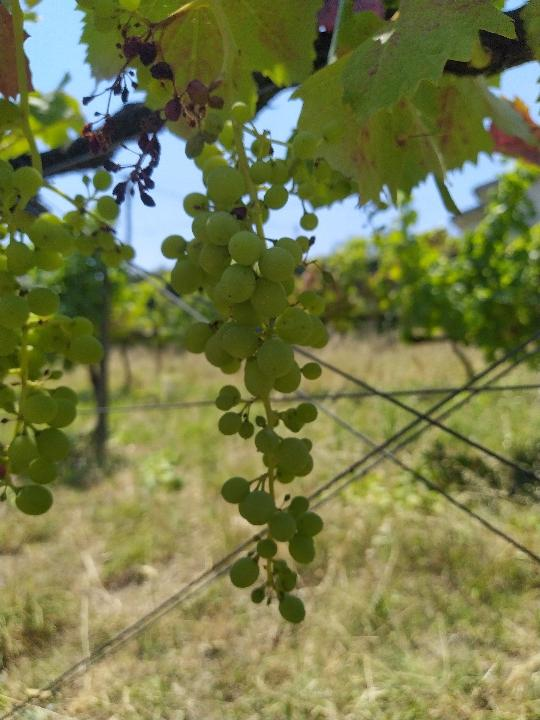grape: (152, 94, 340, 627), (72, 7, 225, 220)
